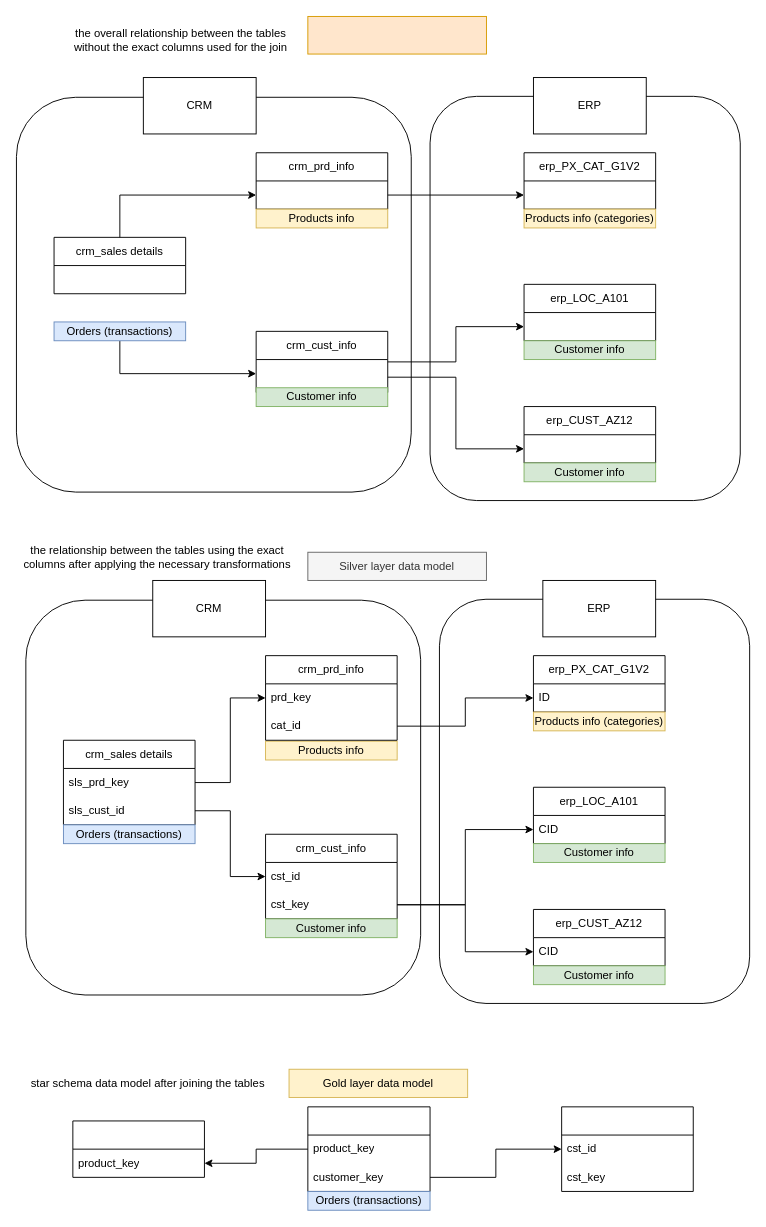
The diagram is 766 pixels wide and 1227 high, and some of its shapes have lost their labels. Here are the shapes that lost their labels. From the top down, the box of each, then its label:
(307, 16, 486, 54): Bronze layer data model
(72, 1120, 204, 1177): gold.dim_products
(307, 1106, 430, 1191): gold.fact_sales
(561, 1106, 693, 1191): gold.dim_customers
